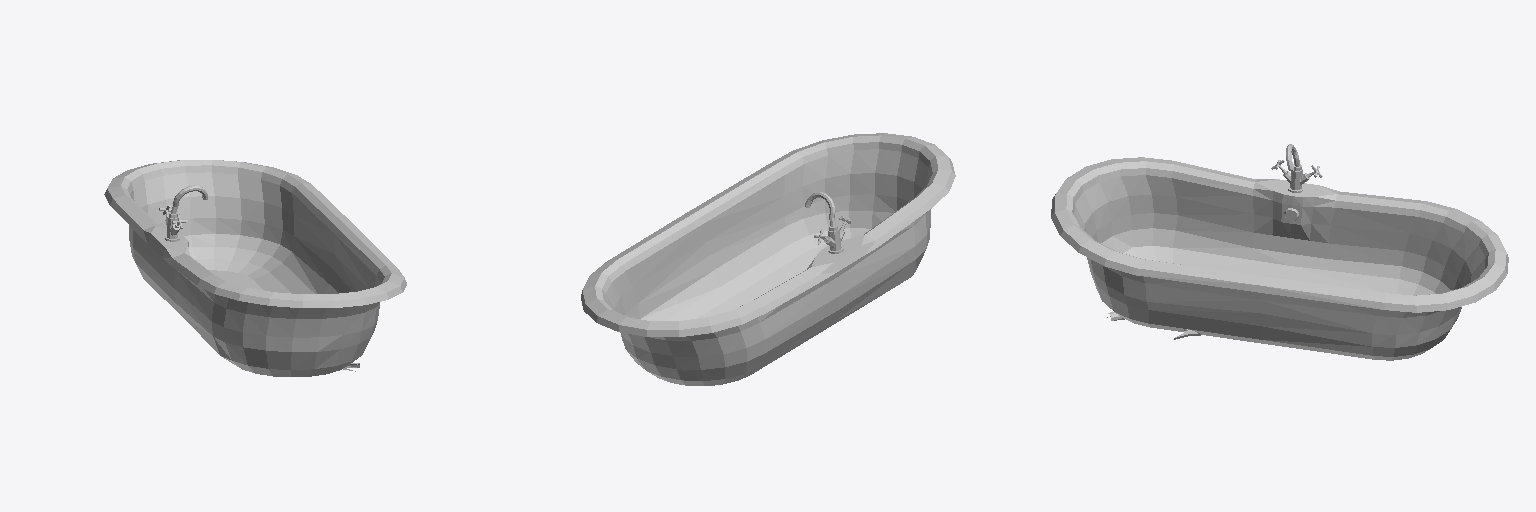
File: Bathtub3.obj
3 views of the same model, side by side, from view 1: azimuth 30°, elevation 25°; view 2: azimuth 150°, elevation 25°; view 3: azimuth 270°, elevation 25° (orthographic).
Visible parts, largest first — view 1: Mesh_0424; view 2: Mesh_0424; view 3: Mesh_0424.
Part boxes in pixels (bbox=[...]): Mesh_0424: bbox=[104, 160, 406, 376]; Mesh_0424: bbox=[581, 133, 955, 385]; Mesh_0424: bbox=[1051, 144, 1508, 360].
Bounding box in the file's own units: 24.62 × 17.07 × 43.73.